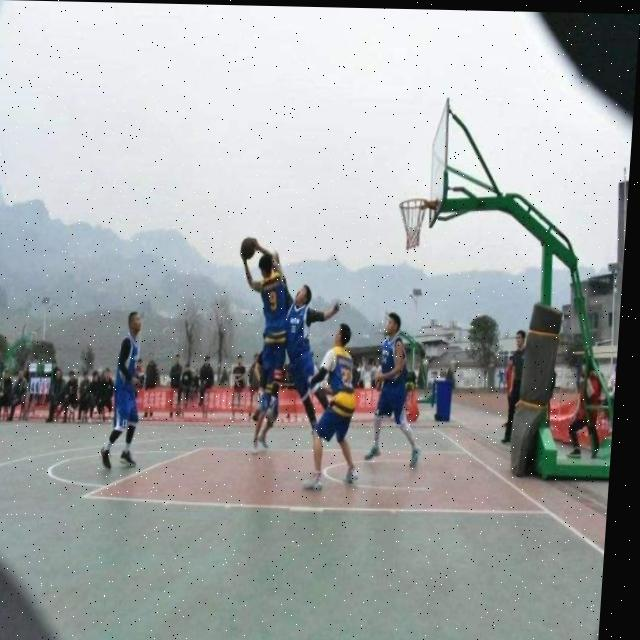basketball: (240, 236, 256, 263)
hoop: (395, 197, 428, 252)
